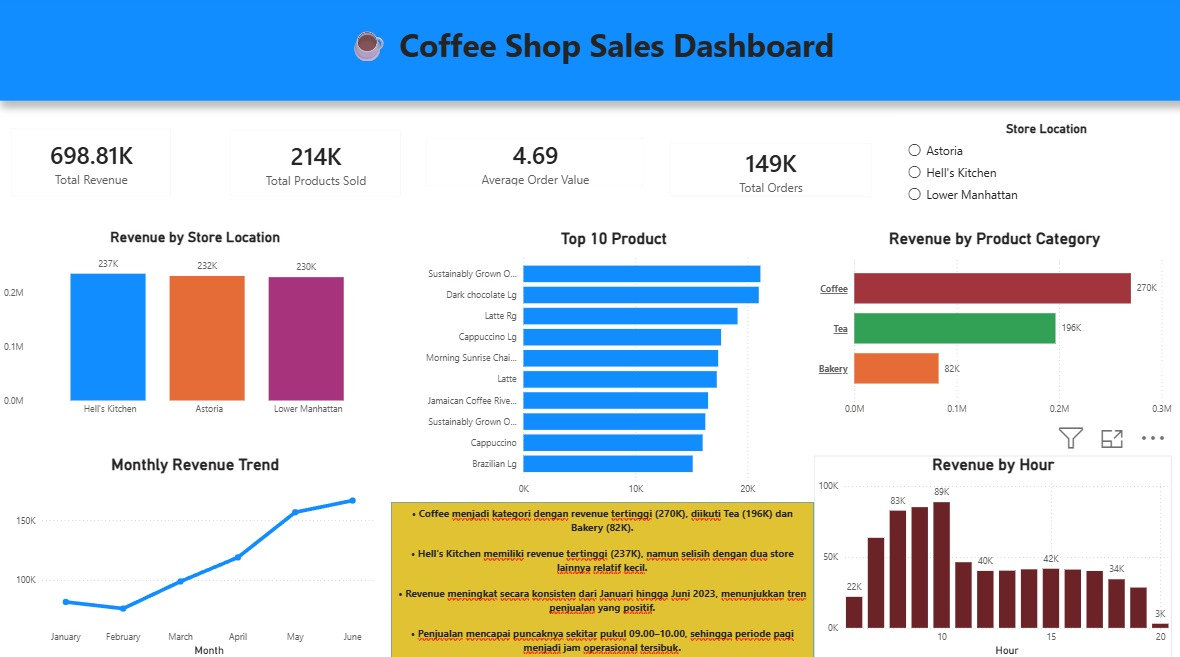

This screenshot's page, from the dashboard's own definition file:
{"tool":"powerbi","page":{"name":"Page 1","canvas":[1600,900],"ordinal":0},"visuals":[{"type":"cardVisual","fields":{"Data":["Transactions.Total Revenue"]},"box":[0,165.4,250.4,127.6],"z":0},{"type":"cardVisual","fields":{"Data":["Transactions.Total Orders"]},"box":[888.6,186.2,307.7,107.3],"z":1000},{"type":"cardVisual","fields":{"Data":["Transactions.Total Products Sold"]},"box":[295.5,168,265.1,125.5],"z":2000},{"type":"cardVisual","fields":{"Data":["Transactions.Average Order Value"]},"box":[560.7,178.1,327.9,101.2],"z":3000},{"type":"clusteredColumnChart","title":"Revenue by Store Location","fields":{"Category":["Transactions.store_location"],"Y":["Transactions.Total Revenue"]},"box":[2,319.8,528.3,261.1],"z":4000},{"type":"clusteredBarChart","title":"Revenue by Product Category","fields":{"Category":["Transactions.product_category"],"Y":["Transactions.Total Revenue"]},"box":[1101.1,319.8,487.8,261.1],"z":5000},{"type":"lineChart","title":"Monthly Revenue Trend","fields":{"Category":["Transactions.transaction_date.Variation.Date Hierarchy.Month"],"Y":["Transactions.Total Revenue"]},"box":[18.2,625.4,495.9,275.3],"z":6000},{"type":"clusteredColumnChart","title":"Revenue by Hour","fields":{"Category":["Transactions.Hour"],"Y":["Transactions.Total Revenue"]},"box":[1101.1,625.4,483.7,275.3],"z":7000},{"type":"clusteredBarChart","title":"Top 10 Product","fields":{"Category":["Transactions.product_detail"],"Y":["Transactions.Total Revenue"]},"box":[559.8,318.9,540.9,368.5],"z":7001},{"type":"textbox","box":[0,0,1599.2,146.5],"z":7002},{"type":"listSlicer","title":"Store Location","fields":{"Values":["Transactions.store_location"]},"box":[1214.4,166,384.6,141.7],"z":7003},{"type":"textbox","box":[530.3,688.2,570.8,212.5],"z":7004}]}

Visuals, with their boxes in screenshot pixels (x1, y1, x2, y2), scaled from the page's 1600x900 canvas onto the 1180x657 screenshot:
cardVisual - Transactions.Total Revenue: <bbox>0, 121, 185, 214</bbox>
cardVisual - Transactions.Total Orders: <bbox>655, 136, 882, 214</bbox>
cardVisual - Transactions.Total Products Sold: <bbox>218, 123, 413, 214</bbox>
cardVisual - Transactions.Average Order Value: <bbox>414, 130, 655, 204</bbox>
"Revenue by Store Location" clusteredColumnChart: <bbox>1, 233, 391, 424</bbox>
"Revenue by Product Category" clusteredBarChart: <bbox>812, 233, 1172, 424</bbox>
"Monthly Revenue Trend" lineChart: <bbox>13, 457, 379, 656</bbox>
"Revenue by Hour" clusteredColumnChart: <bbox>812, 457, 1169, 656</bbox>
"Top 10 Product" clusteredBarChart: <bbox>413, 233, 812, 502</bbox>
textbox: <bbox>0, 0, 1179, 107</bbox>
"Store Location" listSlicer: <bbox>896, 121, 1179, 225</bbox>
textbox: <bbox>391, 502, 812, 656</bbox>
